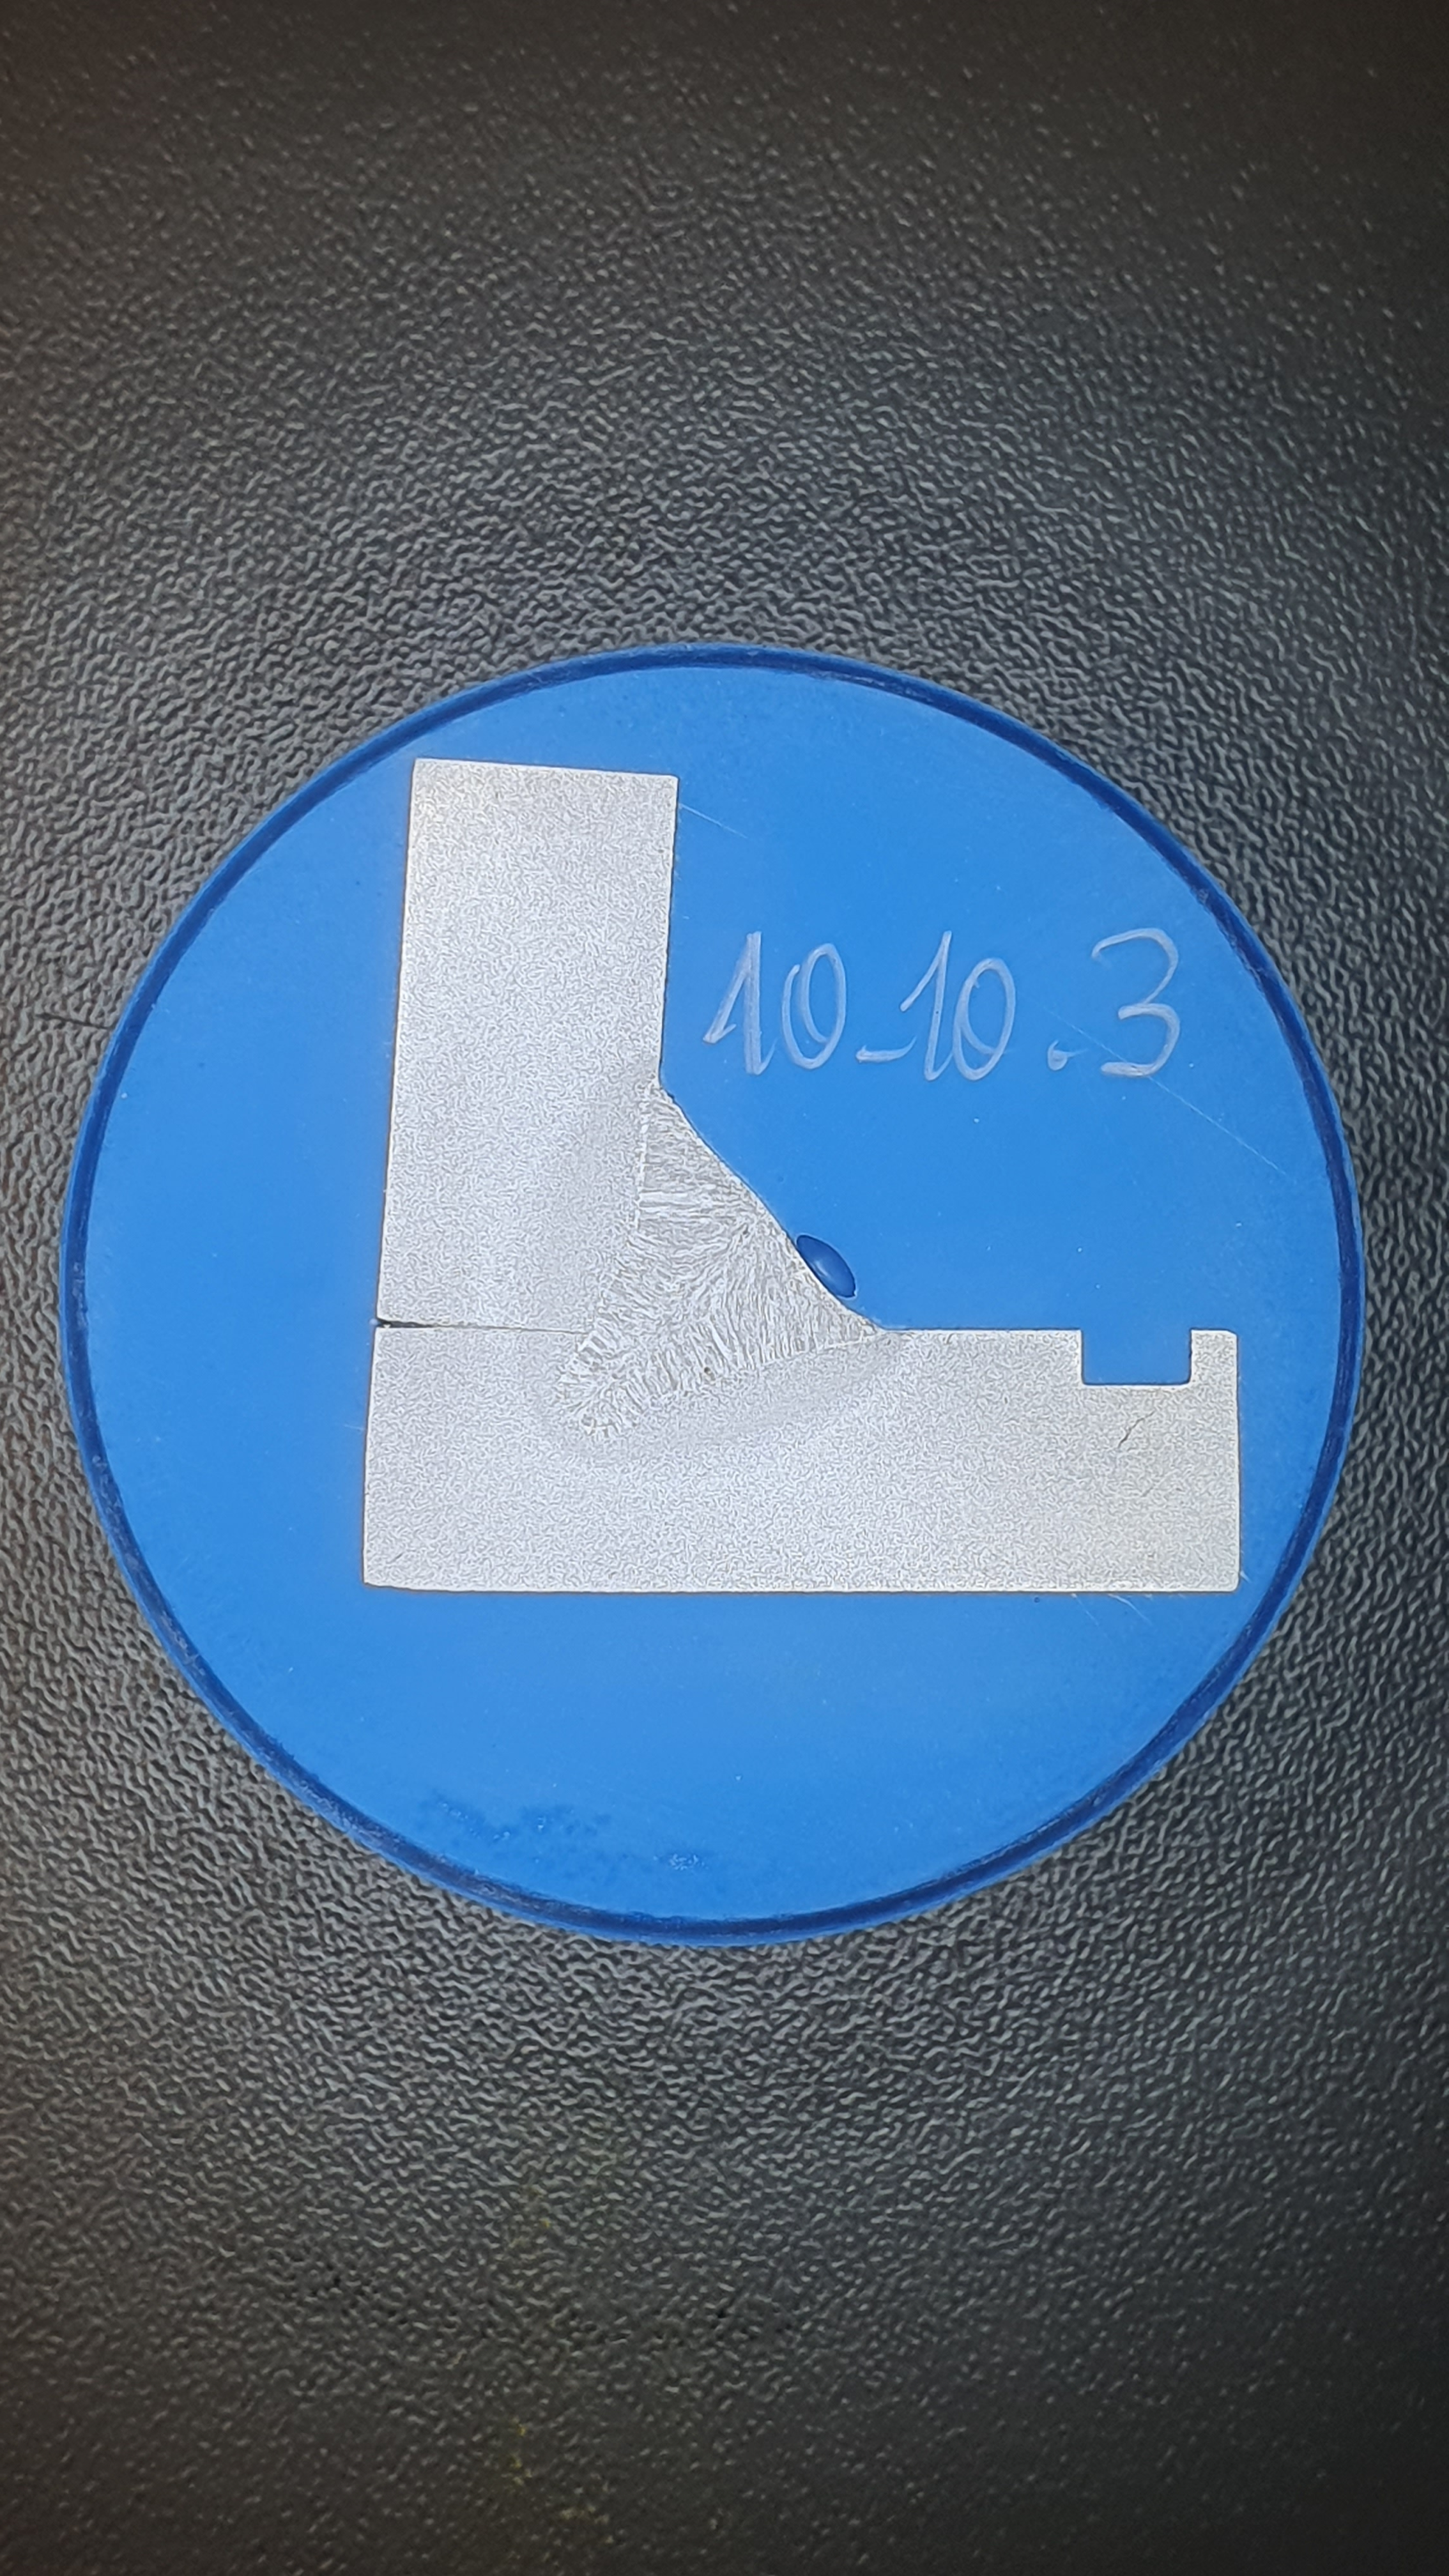Fusion: (555, 1079, 880, 1430)
Hintergrund: (89, 666, 1340, 1919)
Metall: (361, 756, 1240, 1593)
Nebenbereich: (517, 1050, 902, 1471)
